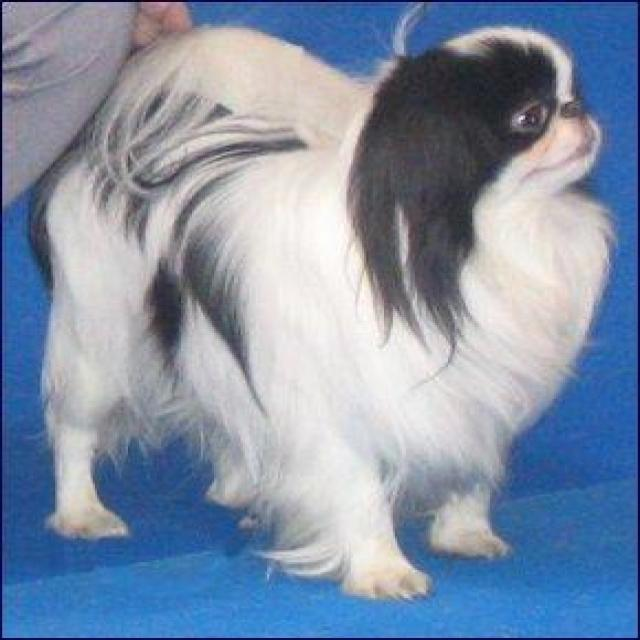husky: (29, 24, 616, 602)
